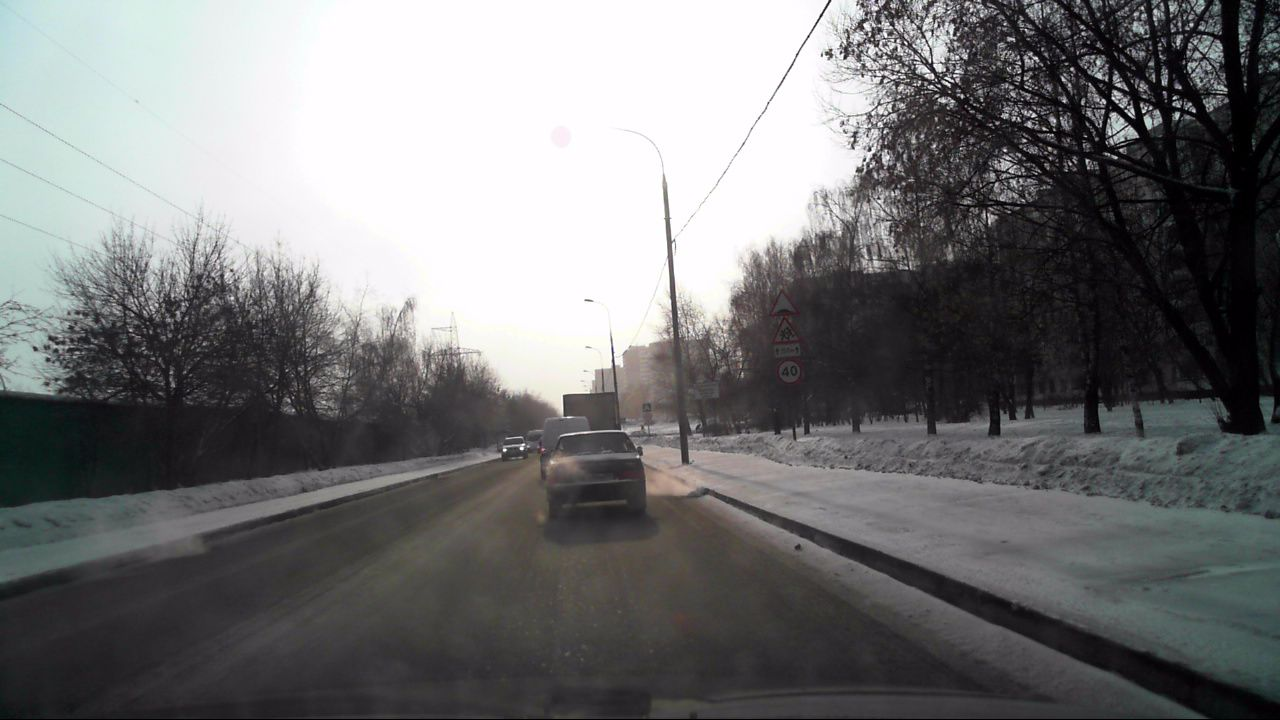speed_warning_40: (778, 359, 800, 383)
